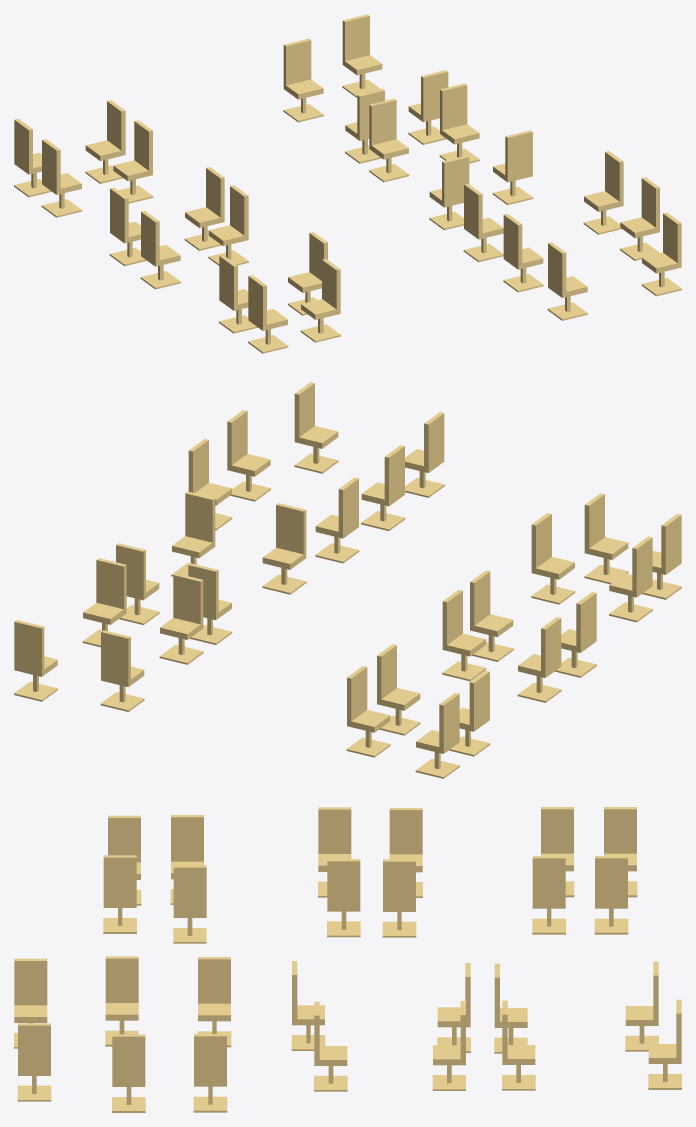
The model's file is greybox_chairs.fbx.
The picture shows the model from 3 angles, top to bottom: view 1: azimuth 30°, elevation 25°; view 2: azimuth 150°, elevation 25°; view 3: azimuth 270°, elevation 25°; orthographic projection. The views are drawn at different scales.
Visible parts, largest first — view 1: Chair.012, Chair.010, Chair.013, Chair.011, Chair.007, Chair.005, Chair.025, Chair.006, Chair.003, Chair.004, Chair.023, Chair.001 (+14 smaller); view 2: Chair.008, Chair.006, Chair.013, Chair.012, Chair.009, Chair.007, Chair.023, Chair.005, Chair.021, Chair.024, Chair.004, Chair.025 (+14 smaller); view 3: Chair.001, Chair.020, Chair.022, Chair.004, Chair.024, Chair.025, Chair.003, Chair.005, Chair.021, Chair.023, Chair.002, Chair (+14 smaller).
Boxes of the visible parts, <box> form: Chair.012: <box>283,38,323,122</box>; Chair.010: <box>369,98,409,182</box>; Chair.013: <box>342,14,382,97</box>; Chair.011: <box>439,83,479,163</box>; Chair.007: <box>492,130,533,205</box>; Chair.005: <box>641,212,681,296</box>; Chair.025: <box>300,259,340,342</box>; Chair.006: <box>429,155,469,230</box>; Chair.003: <box>583,151,623,234</box>; Chair.004: <box>620,177,659,260</box>; Chair.023: <box>85,100,125,183</box>; Chair.001: <box>503,213,543,292</box>; Chair.008: <box>159,573,203,664</box>; Chair.006: <box>262,503,306,594</box>; Chair.013: <box>14,620,57,701</box>; Chair.012: <box>100,630,144,711</box>; Chair.009: <box>82,558,126,647</box>; Chair.007: <box>171,491,215,576</box>; Chair.023: <box>346,666,390,757</box>; Chair.005: <box>294,382,338,473</box>; Chair.021: <box>442,589,486,681</box>; Chair.024: <box>531,513,575,604</box>; Chair.004: <box>227,410,270,501</box>; Chair.025: <box>584,493,628,584</box>; Chair.001: <box>105,956,138,1046</box>; Chair.020: <box>327,859,360,937</box>; Chair.022: <box>532,856,565,934</box>; Chair.004: <box>112,1034,145,1112</box>; Chair.024: <box>173,865,206,943</box>; Chair.025: <box>103,855,136,933</box>; Chair.003: <box>193,1034,227,1112</box>; Chair.005: <box>17,1023,51,1101</box>; Chair.021: <box>382,859,416,937</box>; Chair.023: <box>594,856,628,934</box>; Chair.002: <box>197,957,231,1047</box>; Chair: <box>14,958,47,1048</box>.
Bounding box in the file's own units: 1546 × 194 × 1259.
